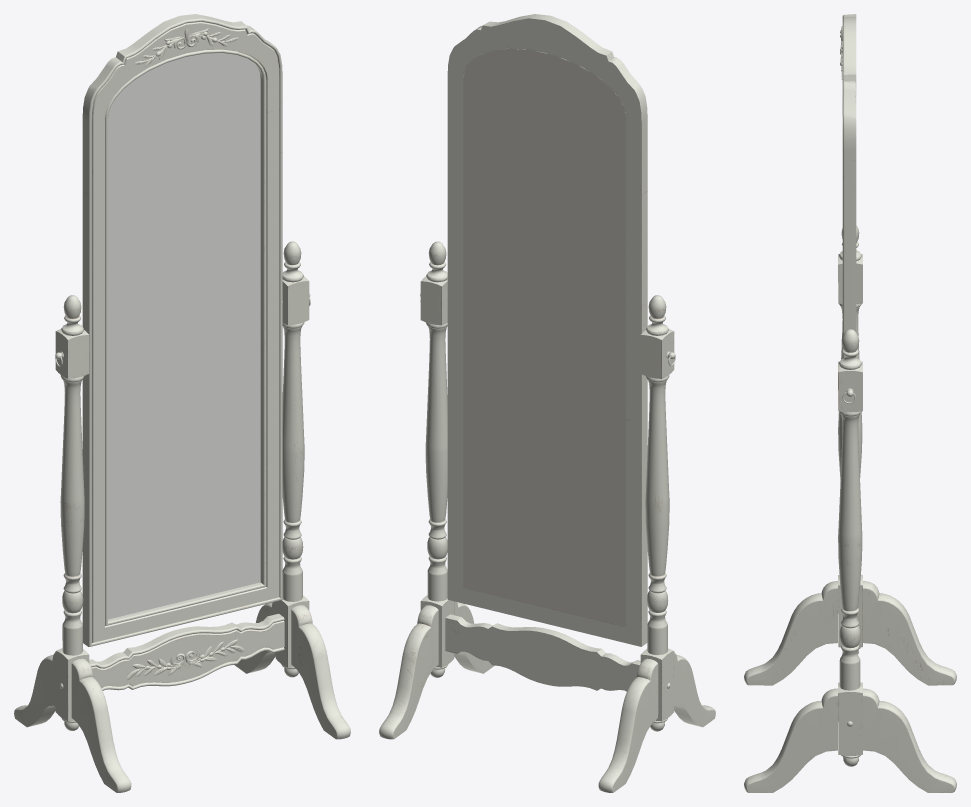
File: example178.glb
The picture shows the model from 3 angles, left to right: view 1: azimuth 30°, elevation 25°; view 2: azimuth 150°, elevation 25°; view 3: azimuth 270°, elevation 25°; orthographic projection.
Visible parts, largest first — view 1: Buffer Layer (×3); view 2: Buffer Layer (×3); view 3: Buffer Layer (×2).
Boxes of the visible parts, left/top/right/bottom form: Buffer Layer (×3): left=14, top=14, right=350, bottom=792; Buffer Layer (×3): left=379, top=14, right=715, bottom=792; Buffer Layer (×2): left=744, top=14, right=956, bottom=792.
Bounding box in the file's own units: 0.52 × 1.39 × 0.3759.
3 materials, 2 textured.
